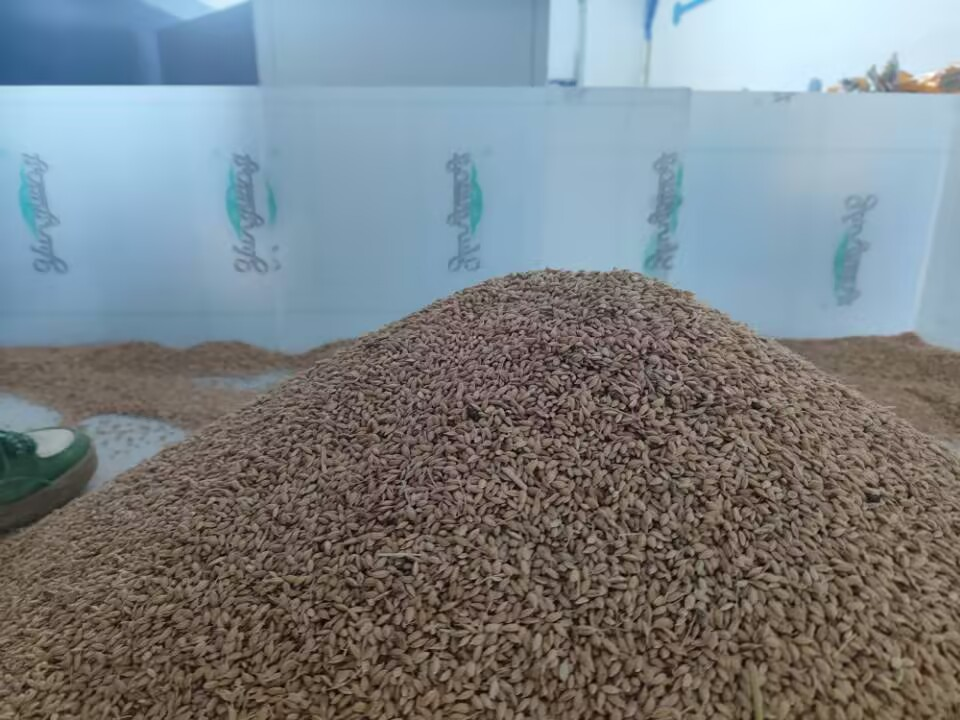Grain: (205, 272, 957, 715)
